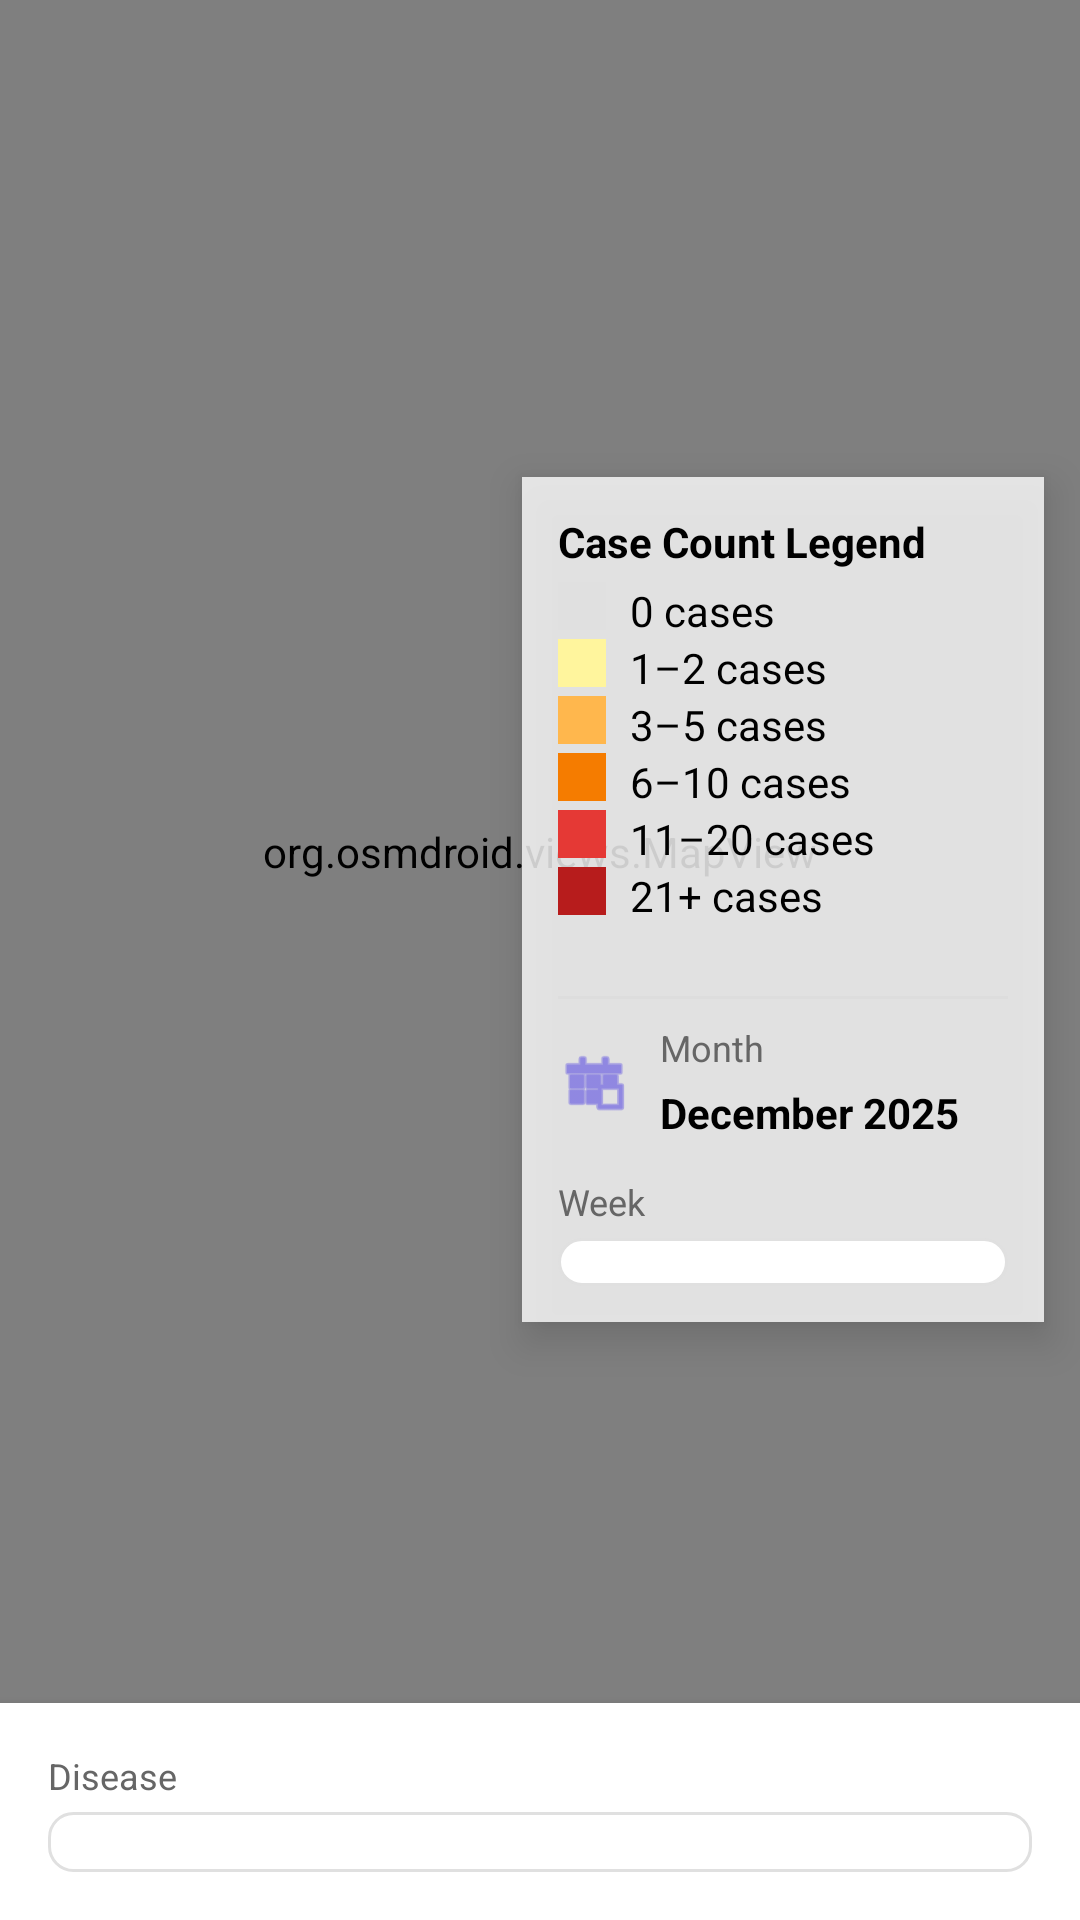

Named icons in this screenshot (1080*1920) and their bounding boxes, (x1, y1, x2, y2):
Calendar icon - click to select date: (565, 1056, 624, 1110)
